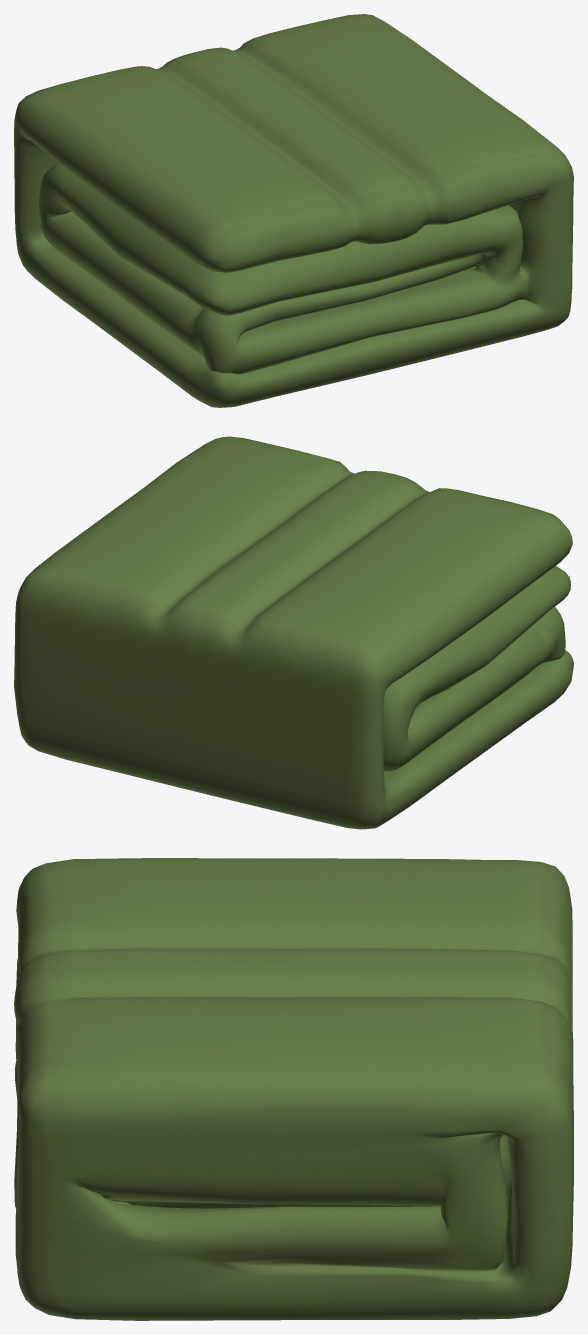
The model's file is folded-blanket.glb.
The picture shows the model from 3 angles, top to bottom: view 1: azimuth 30°, elevation 25°; view 2: azimuth 150°, elevation 25°; view 3: azimuth 270°, elevation 25°; orthographic projection. The views are drawn at different scales.
Size of the model in its own units: 0.9551 by 0.4741 by 0.9326.
Materials: 1 (1 with a texture image).
